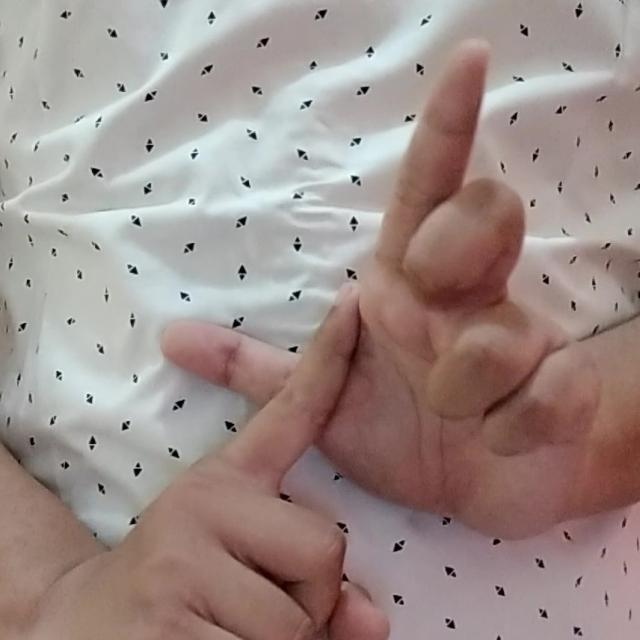Y: (148, 32, 612, 640)
